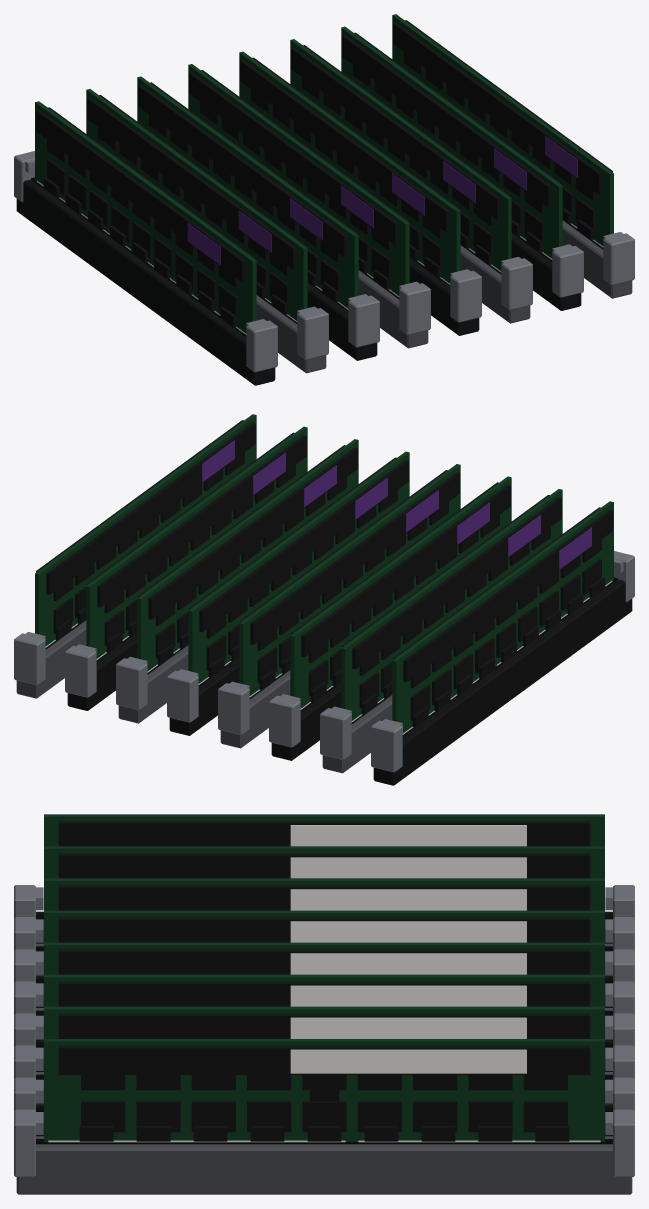
The model's file is hwm_ram_ddr5_384gb.glb.
3 views of the same model, one above another, from view 1: azimuth 30°, elevation 25°; view 2: azimuth 150°, elevation 25°; view 3: azimuth 270°, elevation 25° (orthographic). The views are drawn at different scales.
Parts seen in each view (by area): view 1: Slots, Stick_0, Stick_7, Stick_2, Stick_6, Stick_3, Stick_5, Stick_4, Stick_1, Latch_5_1, Latch_0_1, Latch_1_1 (+6 smaller); view 2: Slots, Stick_0, Stick_7, Stick_2, Stick_6, Stick_3, Stick_5, Stick_4, Stick_1, Latch_5_0, Latch_0_0, Latch_1_0 (+6 smaller); view 3: Stick_7, Slots, Stick_0, Stick_1, Stick_2, Stick_3, Stick_4, Stick_5, Stick_6, Latch_7_0, Latch_7_1, Latch_1_0 (+13 smaller).
Part boxes in pixels (box(x1,y1,x2,y2)): Slots: box(16, 177, 632, 385); Stick_0: box(35, 101, 256, 334); Stick_7: box(392, 14, 613, 247); Stick_2: box(137, 76, 358, 309); Stick_6: box(341, 26, 562, 259); Stick_3: box(188, 64, 409, 297); Stick_5: box(290, 39, 511, 272); Stick_4: box(239, 51, 460, 284); Stick_1: box(86, 89, 307, 322); Latch_5_1: box(501, 256, 532, 310); Latch_0_1: box(246, 319, 277, 372); Latch_1_1: box(297, 306, 328, 359); Slots: box(16, 577, 632, 785); Stick_0: box(392, 501, 613, 734); Stick_7: box(35, 414, 256, 647); Stick_2: box(290, 476, 511, 709); Stick_6: box(86, 426, 307, 659); Stick_3: box(239, 464, 460, 697); Stick_5: box(137, 439, 358, 672); Stick_4: box(188, 451, 409, 684); Stick_1: box(341, 489, 562, 722); Latch_5_0: box(116, 656, 147, 710); Latch_0_0: box(371, 719, 402, 772); Latch_1_0: box(320, 706, 351, 759); Stick_7: box(44, 1039, 604, 1142); Slots: box(16, 911, 632, 1194); Stick_0: box(44, 814, 604, 846); Stick_1: box(44, 846, 604, 878); Stick_2: box(44, 878, 604, 910); Stick_3: box(44, 910, 604, 942); Stick_4: box(44, 942, 604, 974); Stick_5: box(44, 974, 604, 1006); Stick_6: box(44, 1006, 604, 1038); Latch_7_0: box(605, 1109, 634, 1176); Latch_7_1: box(14, 1109, 43, 1176); Latch_1_0: box(605, 917, 634, 950).
Bounding box in the file's own units: 0.1346 × 0.0389 × 0.1472.
